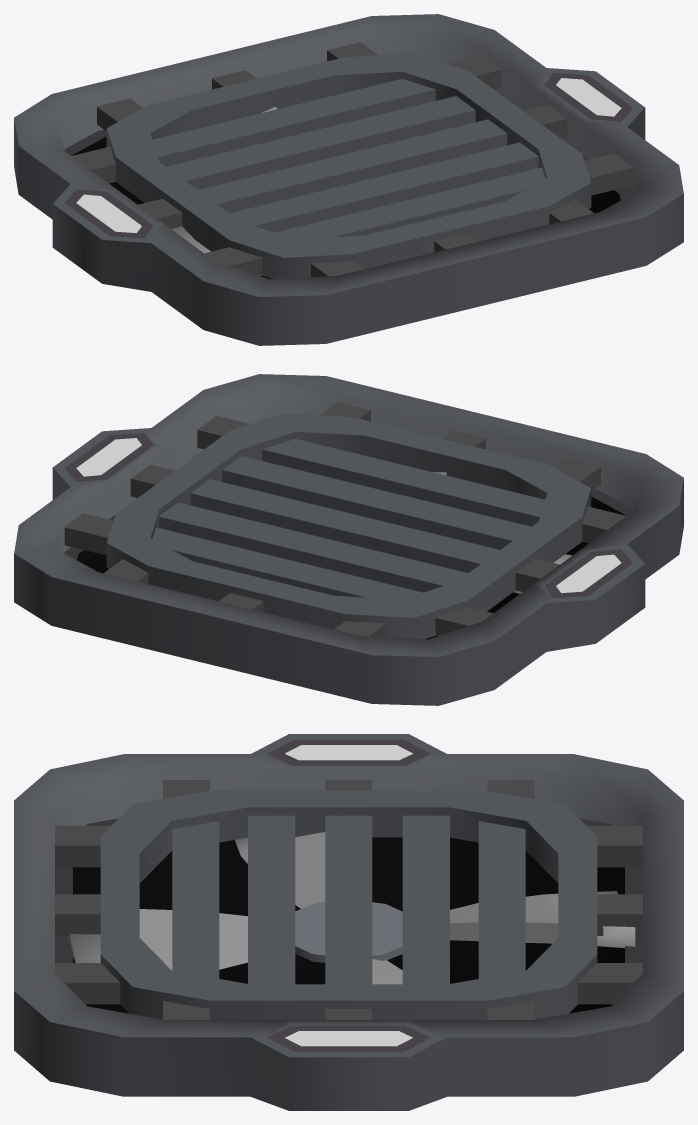
Rendered from vent.glb.
The picture shows the model from 3 angles, top to bottom: view 1: azimuth 30°, elevation 25°; view 2: azimuth 150°, elevation 25°; view 3: azimuth 270°, elevation 25°; orthographic projection. The views are drawn at different scales.
Parts seen in each view (by area): view 1: FloorVent; view 2: FloorVent; view 3: FloorVent.
Part boxes in pixels (x1,y1,x2,y2): FloorVent: (14,14,683,345); FloorVent: (14,374,683,705); FloorVent: (14,734,683,1110).
Bounding box in the file's own units: 0.7069 × 0.0642 × 0.6194.
Materials: 2 (1 with a texture image).
